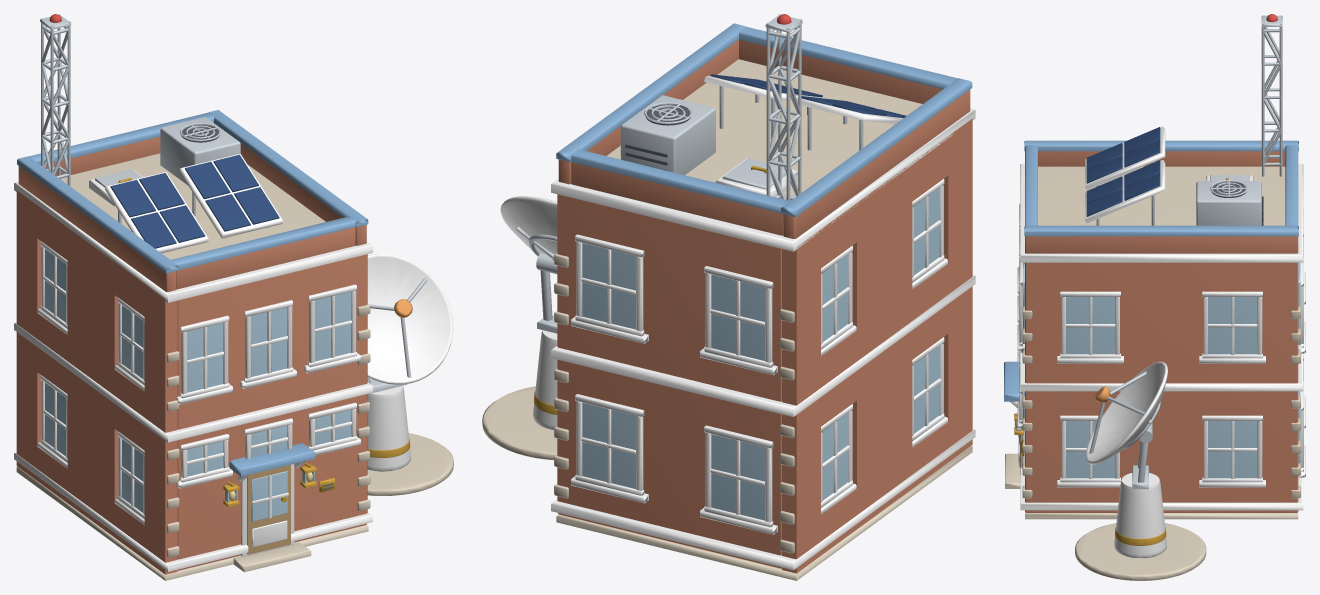
File: works_dish.glb
The picture shows the model from 3 angles, left to right: view 1: azimuth 30°, elevation 25°; view 2: azimuth 150°, elevation 25°; view 3: azimuth 270°, elevation 25°; orthographic projection. The views are drawn at different scales.
Visible parts, largest first — view 1: works_dish_structure, dish; view 2: works_dish_structure, dish; view 3: works_dish_structure, dish.
Boxes of the visible parts, x1,y1,x2,y2 form: works_dish_structure: (14,14,453,580); dish: (367,254,453,393); works_dish_structure: (482,14,975,580); dish: (500,196,557,333); works_dish_structure: (1004,14,1305,580); dish: (1085,361,1167,489).
Bounding box in the file's own units: 6.9 × 8.91 × 5.73.
